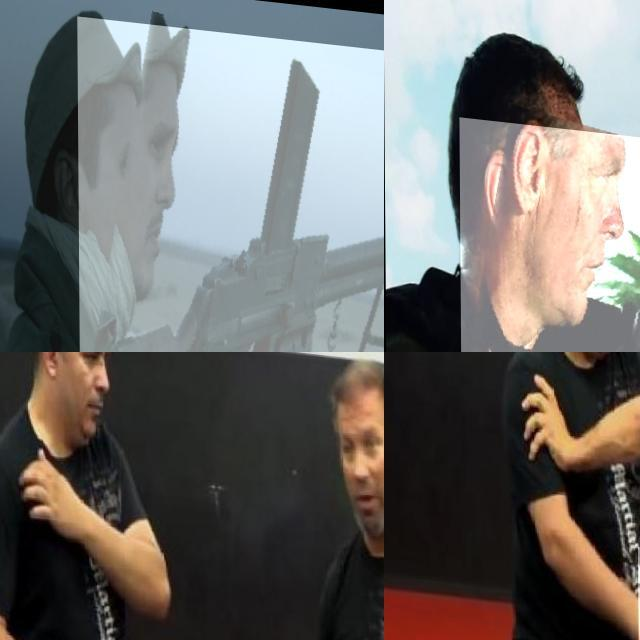gun-knife-thesis - v11 Yolov5 augmented: (77, 12, 384, 352), (459, 115, 640, 352)
